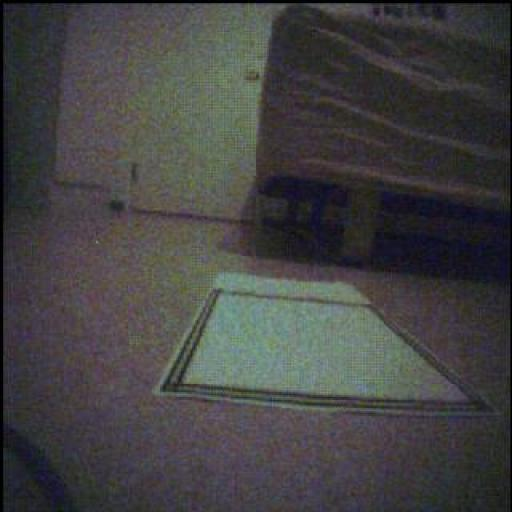pad: (157, 275, 496, 416)
